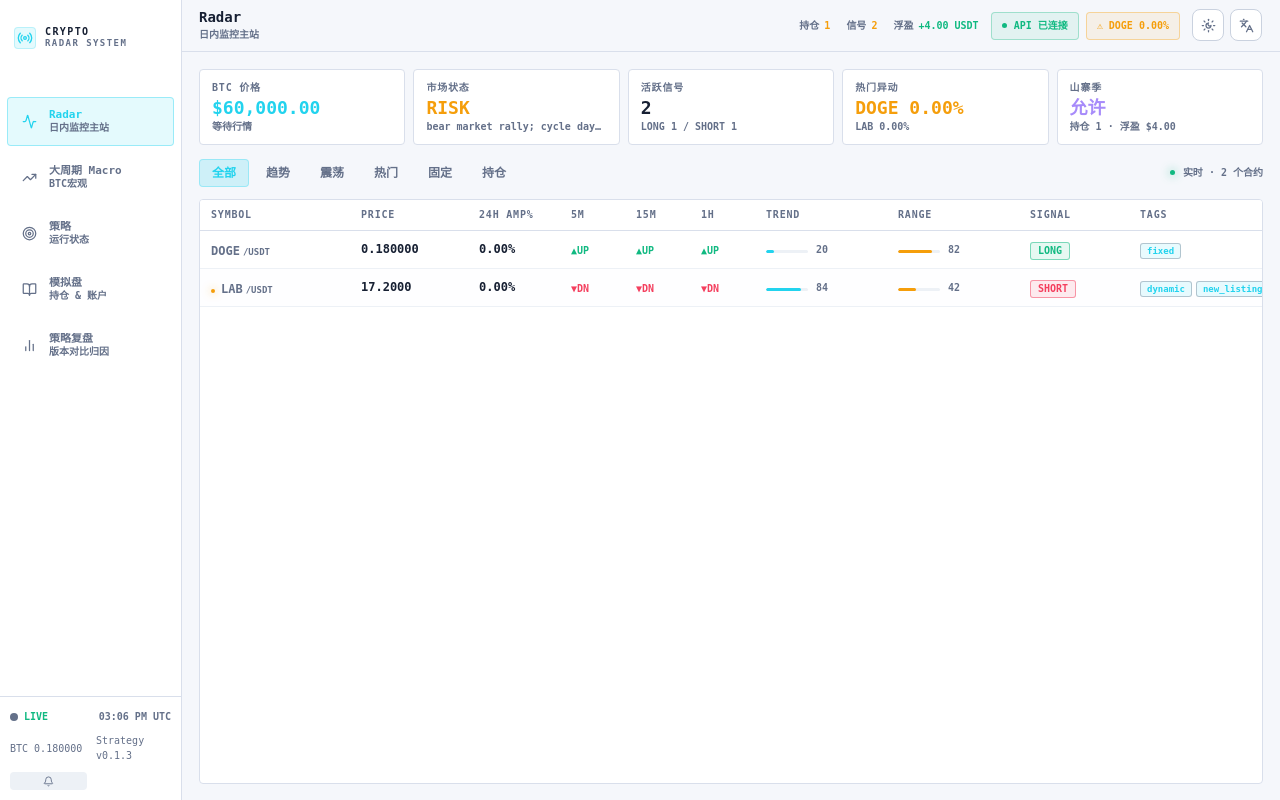
Scenario: App › shows the v0.1.3 equity curve while positions are open and no trade is closed
Click the button "策略复盘 版本对比归因": (90, 346) 7,321 -> 174,370
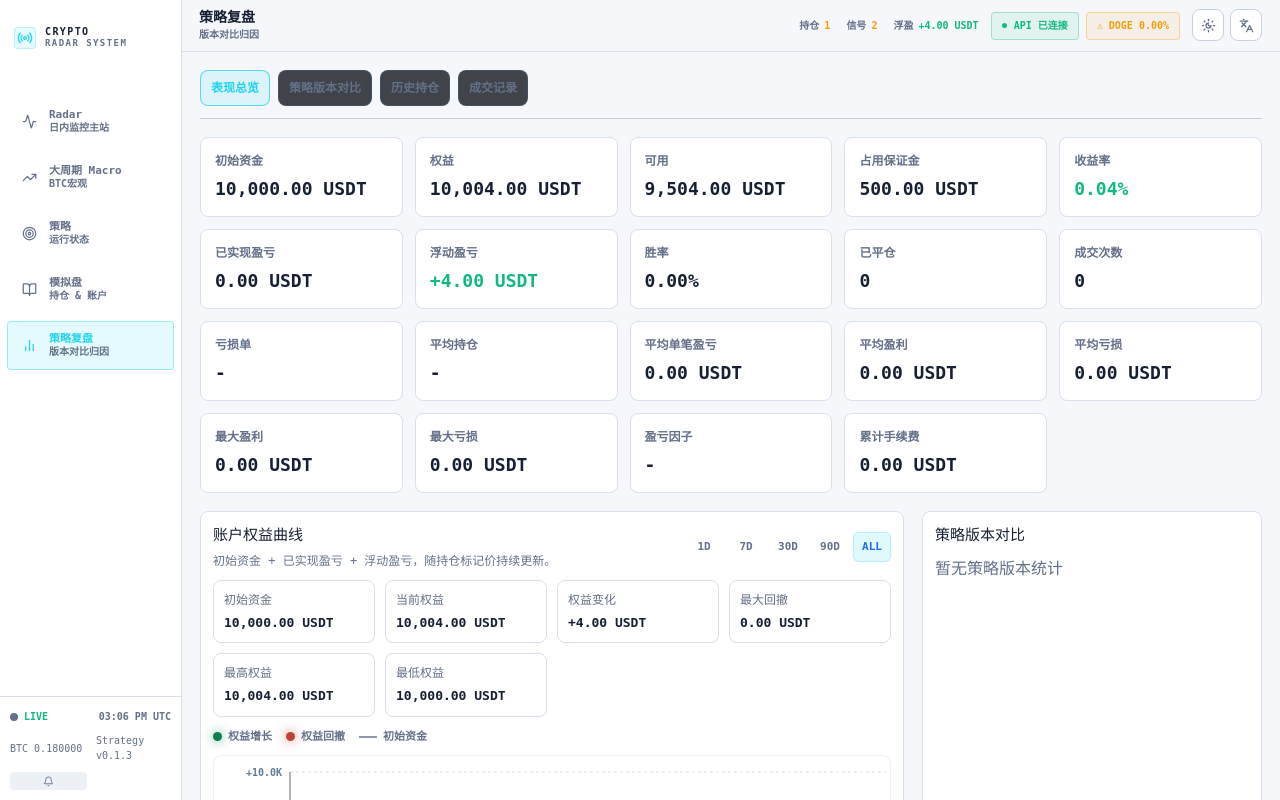
Click the button "策略版本对比": (325, 88) 278,70 -> 372,106
(page scrolled)
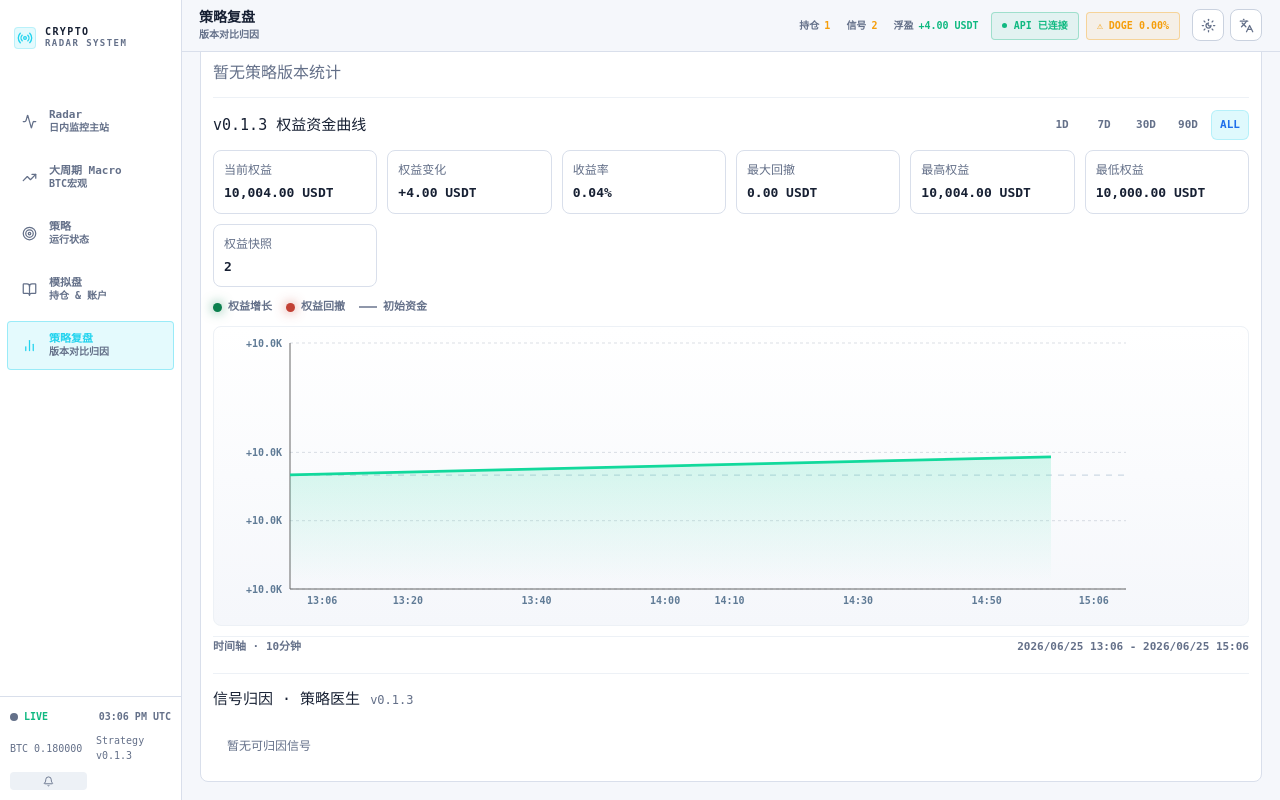
Check: the element with test id "paper-strategy-curve" shows "v0.1.3 权益资金曲线", box 213,96 -> 1249,655
Check: the element with test id "paper-strategy-curve" shows "当前权益", box 224,163 -> 272,177
Check: the element with test id "paper-strategy-curve" shows "10,004.00 USDT", box 224,185 -> 334,200
